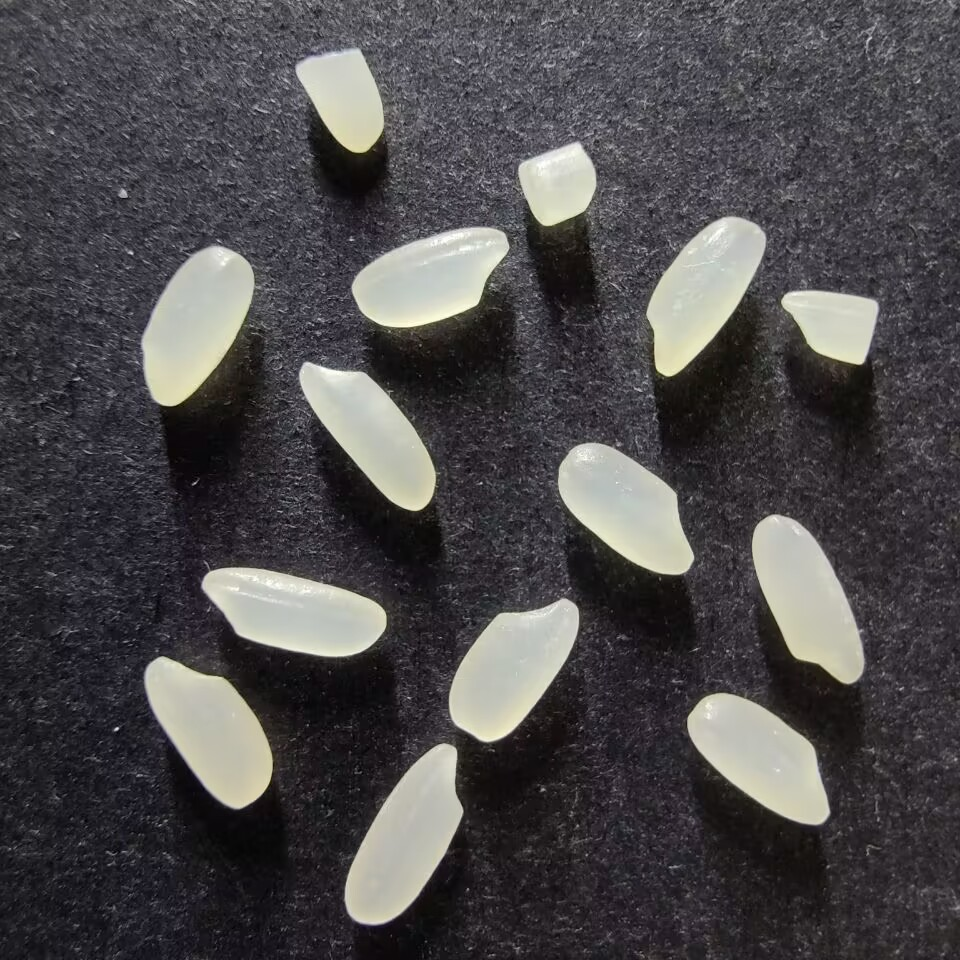broken: (292, 48, 385, 155), (780, 288, 882, 368), (516, 140, 598, 228)
rice: (341, 741, 464, 927), (297, 359, 440, 513), (142, 654, 275, 812), (749, 512, 867, 687), (643, 214, 767, 378), (684, 691, 833, 827), (445, 596, 580, 745), (138, 244, 256, 407), (555, 441, 696, 577), (198, 565, 388, 661), (349, 226, 512, 328)
